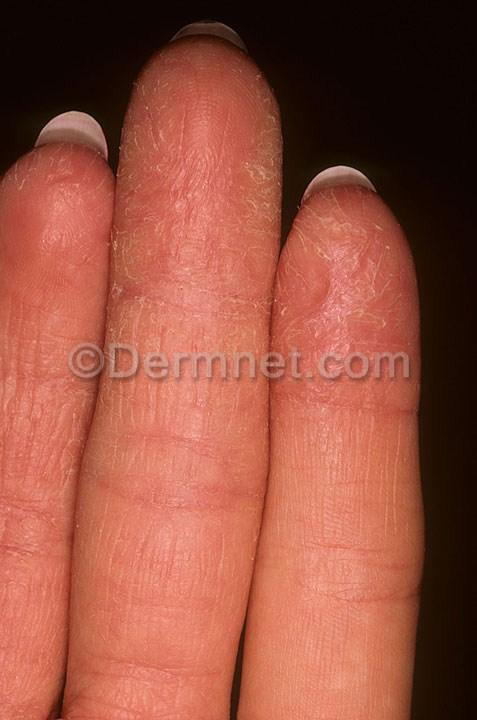Eczema: (112, 83, 271, 333), (283, 172, 413, 365), (11, 133, 121, 300)
